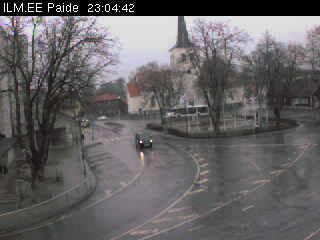bus: (165, 104, 209, 120)
car: (134, 131, 154, 151), (78, 117, 91, 129)
person: (80, 133, 85, 145)
